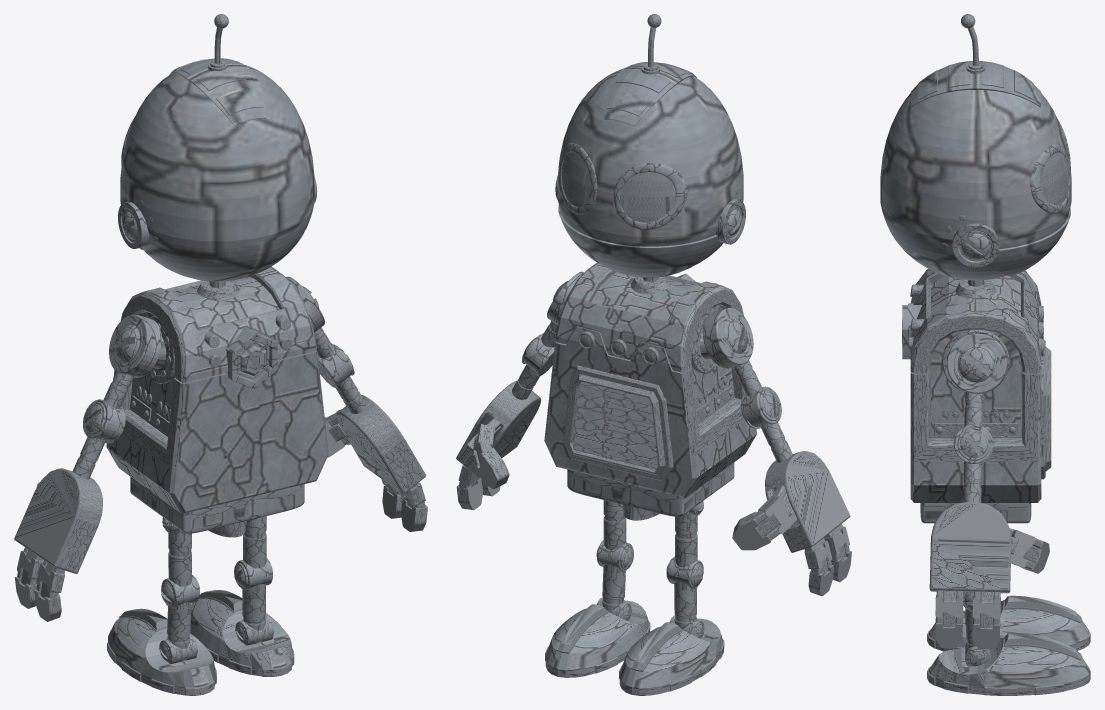
The model's file is HeroRobot.gltf.
3 renders of one model, left to right at view 1: azimuth 30°, elevation 25°; view 2: azimuth 150°, elevation 25°; view 3: azimuth 270°, elevation 25°, orthographic. The views are drawn at different scales.
Visible parts, largest first — view 1: Null1_torso, Null1_cabeza_head, Null1_Symmetry1_Torus_Sphere_1_Cylinder_43_Cylinder2_Cylinde (×6), Null1_Symmetry_1_Sphere_11_Cylinder_11_Cylinder_Cylinder_6_O, Null1_cabeza_head_Sphere_21, Null1_torso_cadera_Cube2, Null1_Symmetry1_Torus_Sphere_1, Null1_torso_tuerca_tras, Null1_Symmetry_1_Sphere_11_Cylinder_11, Null1_Symmetry_1_Sphere_11_Cylinder_11_Cylinder_Cylinder_6, Null1_Symmetry_1_Sphere_11_Cylinder_11_Cylinder, Null1_Symmetry_1_Sphere_11_Cylinder_11_Cylinder_Cylinder_6_S (+6 smaller); view 2: Null1_torso, Null1_cabeza_head, Null1_Symmetry1_Torus_Sphere_1_Cylinder_43_Cylinder2_Cylinde (×8), Null1_Symmetry_1_Sphere_11_Cylinder_11_Cylinder_Cylinder_6_O, Null1_torso_Cube_Cube_3, Null1_torso_Cube, Null1_cabeza_mouth, Null1_cabeza_head_Sphere_21, Null1_torso_cadera_Cube2, Null1_Symmetry1_Torus_Sphere_1, Null1_cabeza_head_ojos_Subdivision_Surface_Tube, Null1_Symmetry_1_Sphere_11_Cylinder_11 (+8 smaller); view 3: Null1_cabeza_head, Null1_torso, Null1_Symmetry1_Torus_Sphere_1_Cylinder_43_Cylinder2_Cylinde (×9), Null1_Symmetry_1_Sphere_11_Cylinder_11_Cylinder_Cylinder_6_O, Null1_cabeza_head_Sphere_21, Null1_Symmetry1_Torus_Sphere_1, Null1_cabeza_mouth, Null1_torso_Cube, Null1_cabeza_head_ojos_Subdivision_Surface_Tube, Null1_torso_cadera_Cube2, Null1_cabeza_head_Symmetry2_Cylinder3, Null1_Symmetry1_Torus_Sphere_1_Cylinder_43_Cylinder2 (+8 smaller).
Part boxes in pixels (x1=…): Null1_torso: x1=106, y1=266, x2=328, y2=513; Null1_cabeza_head: x1=120, y1=65, x2=314, y2=281; Null1_Symmetry1_Torus_Sphere_1_Cylinder_43_Cylinder2_Cylinde (×6): x1=14, y1=343, x2=427, y2=621; Null1_Symmetry_1_Sphere_11_Cylinder_11_Cylinder_Cylinder_6_O: x1=107, y1=590, x2=294, y2=695; Null1_cabeza_head_Sphere_21: x1=169, y1=14, x2=266, y2=125; Null1_torso_cadera_Cube2: x1=130, y1=477, x2=304, y2=533; Null1_Symmetry1_Torus_Sphere_1: x1=109, y1=276, x2=324, y2=377; Null1_torso_tuerca_tras: x1=226, y1=327, x2=277, y2=388; Null1_Symmetry_1_Sphere_11_Cylinder_11: x1=168, y1=516, x2=266, y2=586; Null1_Symmetry_1_Sphere_11_Cylinder_11_Cylinder_Cylinder_6: x1=167, y1=584, x2=265, y2=662; Null1_Symmetry_1_Sphere_11_Cylinder_11_Cylinder: x1=161, y1=558, x2=272, y2=608; Null1_Symmetry_1_Sphere_11_Cylinder_11_Cylinder_Cylinder_6_S: x1=159, y1=616, x2=273, y2=664; Null1_torso: x1=544, y1=262, x2=756, y2=497; Null1_cabeza_head: x1=557, y1=68, x2=743, y2=264; Null1_Symmetry1_Torus_Sphere_1_Cylinder_43_Cylinder2_Cylinde (×8): x1=456, y1=333, x2=850, y2=596; Null1_Symmetry_1_Sphere_11_Cylinder_11_Cylinder_Cylinder_6_O: x1=545, y1=600, x2=724, y2=695; Null1_torso_Cube_Cube_3: x1=572, y1=382, x2=658, y2=469; Null1_torso_Cube: x1=563, y1=365, x2=673, y2=481; Null1_cabeza_mouth: x1=558, y1=205, x2=720, y2=277; Null1_cabeza_head_Sphere_21: x1=604, y1=14, x2=696, y2=126; Null1_torso_cadera_Cube2: x1=567, y1=462, x2=734, y2=516; Null1_Symmetry1_Torus_Sphere_1: x1=547, y1=271, x2=753, y2=368; Null1_cabeza_head_ojos_Subdivision_Surface_Tube: x1=558, y1=142, x2=687, y2=229; Null1_Symmetry_1_Sphere_11_Cylinder_11: x1=603, y1=500, x2=697, y2=567; Null1_cabeza_head: x1=880, y1=90, x2=1071, y2=280; Null1_torso: x1=910, y1=269, x2=1041, y2=502; Null1_Symmetry1_Torus_Sphere_1_Cylinder_43_Cylinder2_Cylinde (×9): x1=929, y1=424, x2=1049, y2=649; Null1_Symmetry_1_Sphere_11_Cylinder_11_Cylinder_Cylinder_6_O: x1=927, y1=595, x2=1090, y2=695; Null1_cabeza_head_Sphere_21: x1=911, y1=14, x2=1040, y2=107; Null1_Symmetry1_Torus_Sphere_1: x1=947, y1=333, x2=1006, y2=393; Null1_cabeza_mouth: x1=989, y1=208, x2=1070, y2=275; Null1_torso_Cube: x1=1041, y1=339, x2=1051, y2=479; Null1_cabeza_head_ojos_Subdivision_Surface_Tube: x1=1030, y1=120, x2=1070, y2=213; Null1_torso_cadera_Cube2: x1=920, y1=503, x2=1031, y2=523; Null1_cabeza_head_Symmetry2_Cylinder3: x1=952, y1=223, x2=999, y2=267; Null1_Symmetry1_Torus_Sphere_1_Cylinder_43_Cylinder2: x1=957, y1=427, x2=990, y2=460.
Bounding box in the file's own units: 851 × 1402 × 414.
57 materials, 57 textured.
